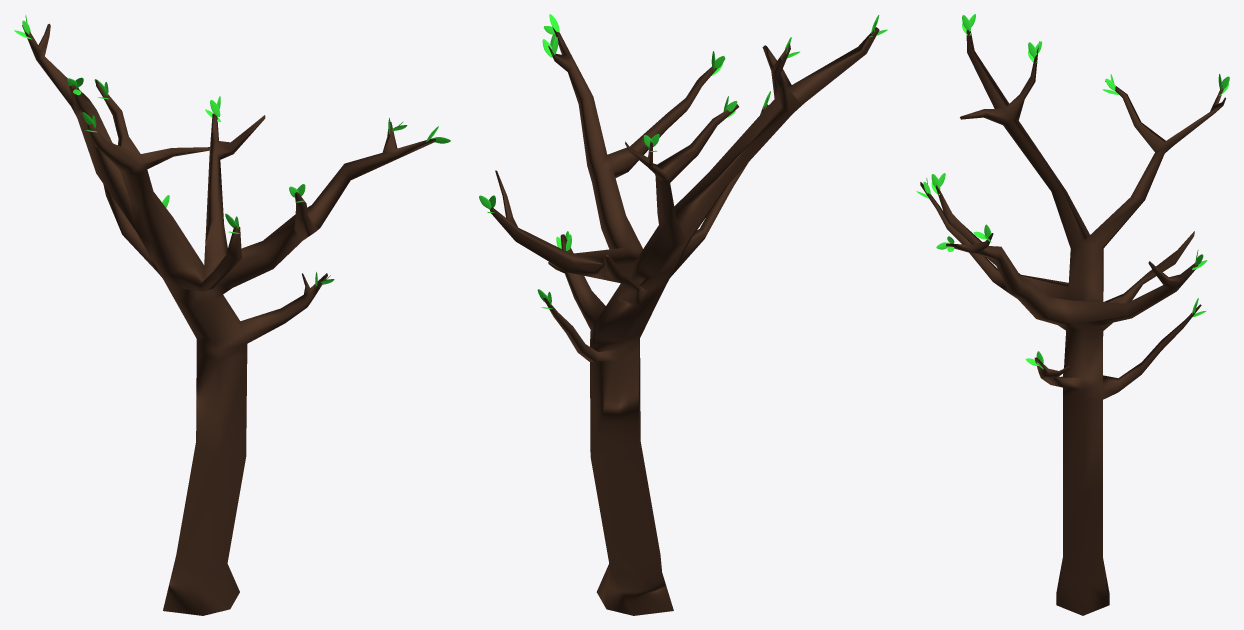
File: Tree mild growth.fbx
3 renders of one model, left to right at view 1: azimuth 30°, elevation 25°; view 2: azimuth 150°, elevation 25°; view 3: azimuth 270°, elevation 25°, orthographic. The views are drawn at different scales.
Visible parts, largest first — view 1: Cube.032; view 2: Cube.032; view 3: Cube.032.
Part boxes in pixels (x1,y1,x2,y2): Cube.032: (14, 14, 450, 615); Cube.032: (479, 14, 887, 615); Cube.032: (916, 14, 1229, 615).
Bounding box in the file's own units: 179 × 281 × 157.
